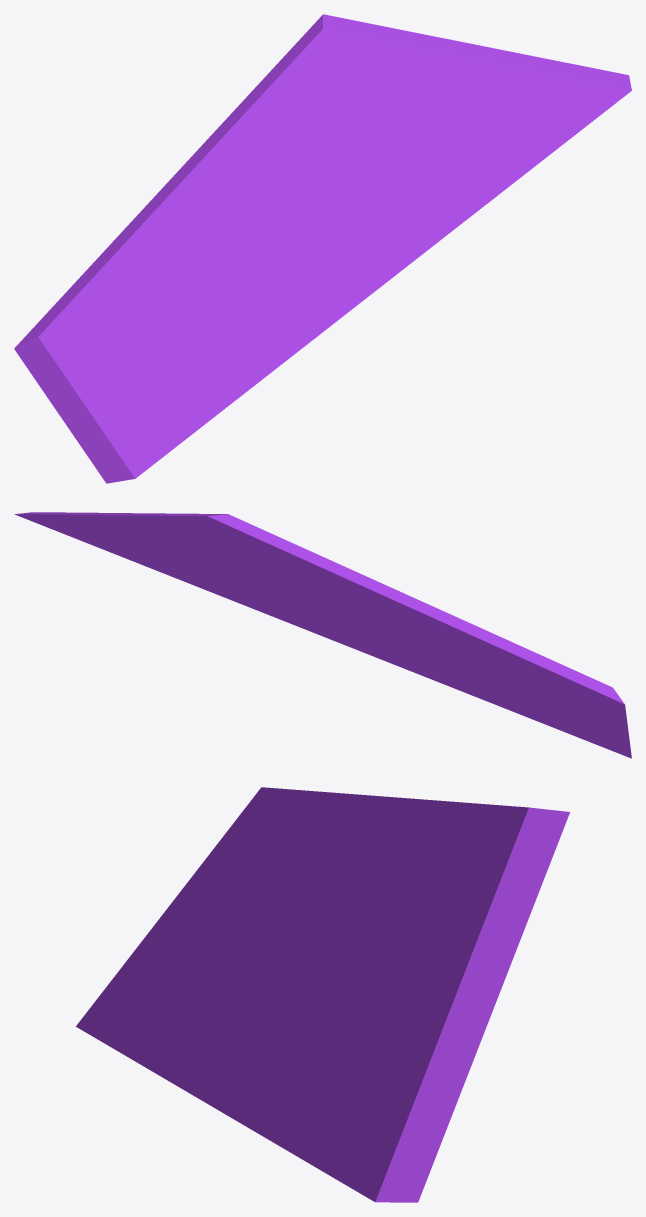
The model's file is Window_26_16_chunks.fbx.
The picture shows the model from 3 angles, top to bottom: view 1: azimuth 30°, elevation 25°; view 2: azimuth 150°, elevation 25°; view 3: azimuth 270°, elevation 25°; orthographic projection. The views are drawn at different scales.
Parts seen in each view (by area): view 1: Window_26_16_0, Window_26_16_4, Window_26_16_8, Window_26_16_2, Window_26_16_9, Window_26_16_6, Window_26_16_3, Window_26_16_5; view 2: Window_26_16_0, Window_26_16_8, Window_26_16_9, Window_26_16_4, Window_26_16_2, Window_26_16_6, Window_26_16_5, Window_26_16_3, Window_26_16_7; view 3: Window_26_16_0, Window_26_16_8, Window_26_16_4, Window_26_16_2, Window_26_16_9, Window_26_16_6, Window_26_16_3, Window_26_16_5.
Part boxes in pixels (bbox=[...]): Window_26_16_0: bbox=[14, 177, 295, 483]; Window_26_16_4: bbox=[378, 58, 631, 195]; Window_26_16_8: bbox=[321, 19, 542, 177]; Window_26_16_2: bbox=[277, 181, 416, 353]; Window_26_16_9: bbox=[171, 14, 346, 178]; Window_26_16_6: bbox=[173, 137, 353, 227]; Window_26_16_3: bbox=[414, 170, 529, 258]; Window_26_16_5: bbox=[314, 162, 389, 203]; Window_26_16_0: bbox=[374, 597, 631, 758]; Window_26_16_8: bbox=[68, 513, 284, 594]; Window_26_16_9: bbox=[193, 514, 412, 608]; Window_26_16_4: bbox=[15, 512, 247, 592]; Window_26_16_2: bbox=[267, 603, 415, 672]; Window_26_16_6: bbox=[314, 589, 413, 623]; Window_26_16_5: bbox=[246, 580, 363, 628]; Window_26_16_3: bbox=[159, 571, 288, 622]; Window_26_16_7: bbox=[283, 576, 336, 605]; Window_26_16_0: bbox=[76, 787, 399, 1082]; Window_26_16_8: bbox=[354, 838, 558, 1093]; Window_26_16_4: bbox=[314, 992, 460, 1202]; Window_26_16_2: bbox=[172, 945, 340, 1125]; Window_26_16_9: bbox=[408, 798, 569, 907]; Window_26_16_6: bbox=[318, 797, 412, 980]; Window_26_16_3: bbox=[245, 1064, 316, 1165]; Window_26_16_5: bbox=[335, 963, 364, 1023].
Bounding box in the file's own units: 1033 × 433 × 384.
